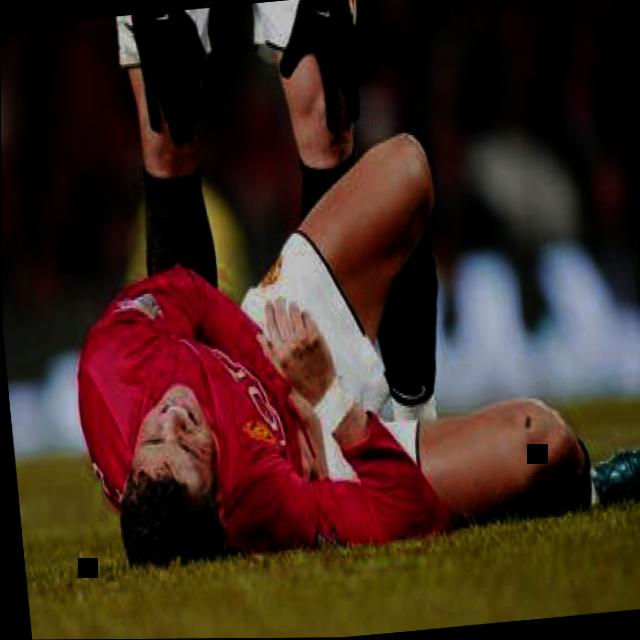Fall-Detected: (40, 86, 640, 590)
